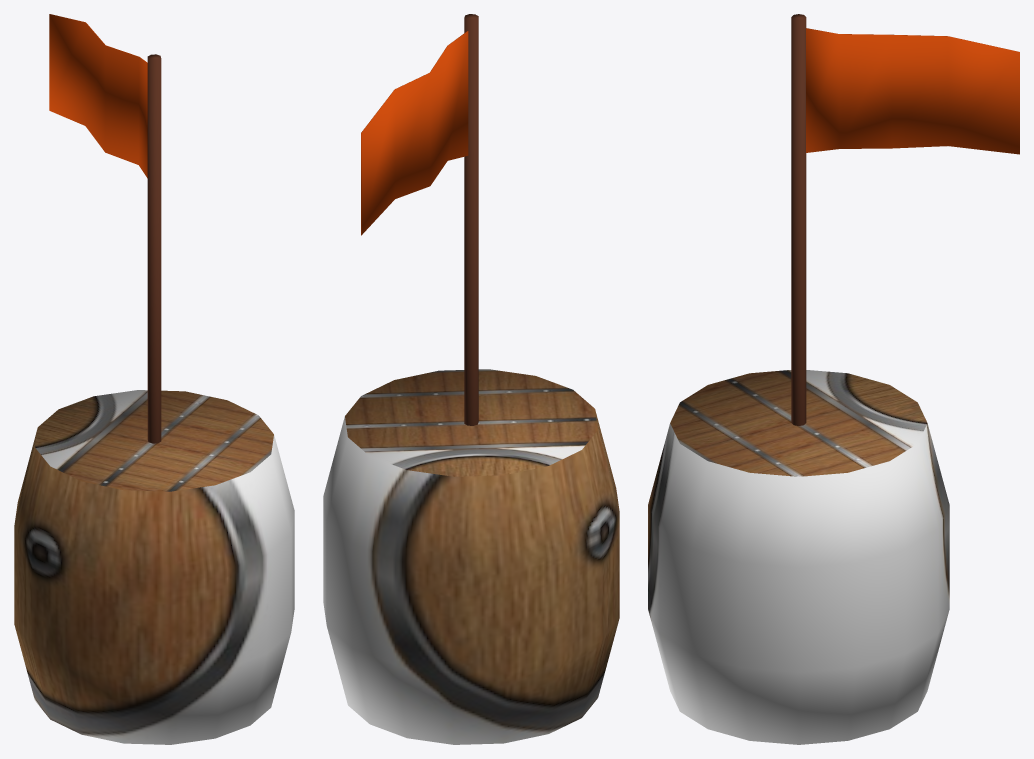
The model's file is barilflagsquare.gltf.
3 renders of one model, left to right at view 1: azimuth 30°, elevation 25°; view 2: azimuth 150°, elevation 25°; view 3: azimuth 270°, elevation 25°, orthographic. The views are drawn at different scales.
Bounding box in the file's own units: 0.9123 × 2.29 × 1.14.
Materials: 3 (1 with a texture image).
